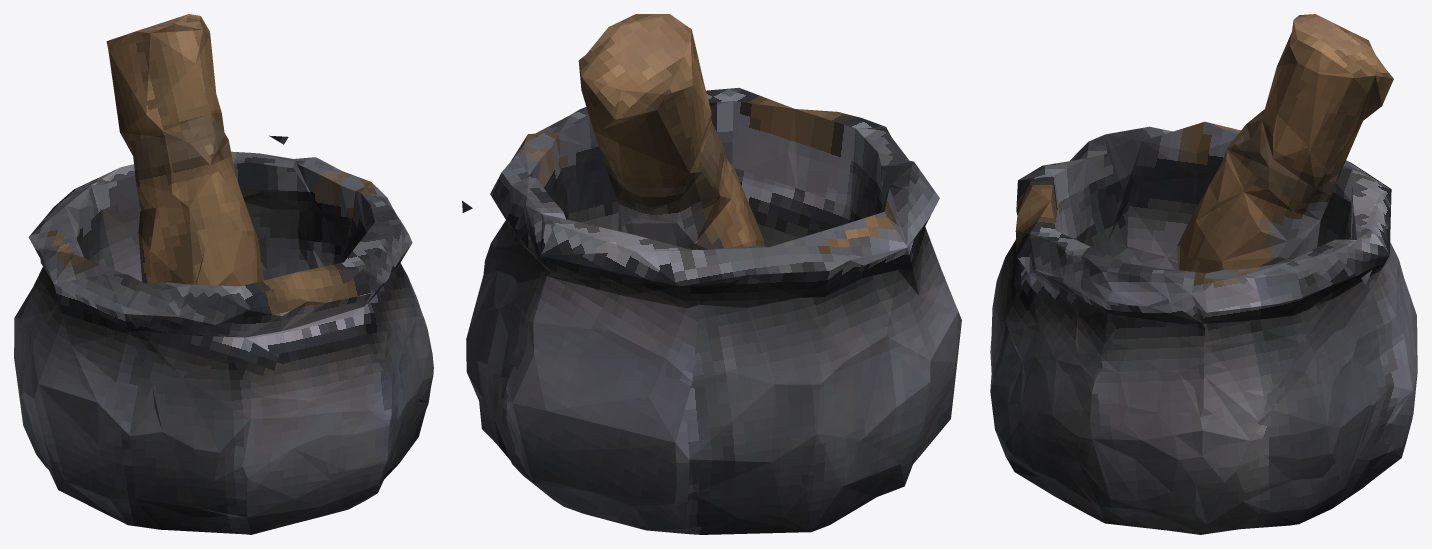
The model's file is mortar.glb.
3 renders of one model, left to right at view 1: azimuth 30°, elevation 25°; view 2: azimuth 150°, elevation 25°; view 3: azimuth 270°, elevation 25°, orthographic. The views are drawn at different scales.
Visible parts, largest first — view 1: mortar; view 2: mortar; view 3: mortar.
Part boxes in pixels (x1,y1,x2,y2): mortar: [14, 14, 433, 534]; mortar: [462, 14, 961, 534]; mortar: [990, 14, 1417, 534].
Size of the model in its own units: 0.2896 by 0.3012 by 0.2687.
1 material, 1 textured.
